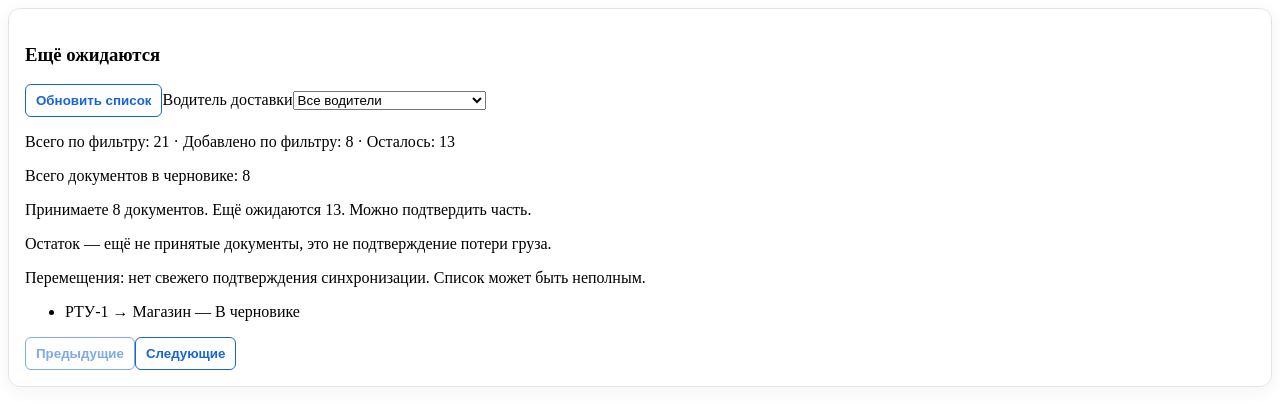
фильтрует приёмку по водителю доставки и не называет остаток потерей
The image size is (1280, 404).
Select "Бывший водитель доставки" in the dropdown at (389, 101), box [293,91,486,110]
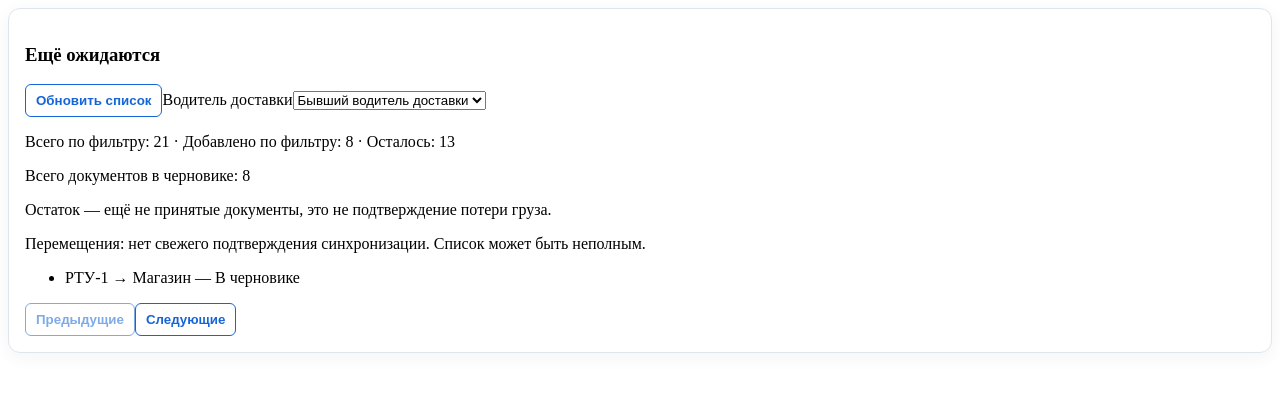
Expected: the text "это не подтверждение потери" is shown, [25,201,552,218]
Result: the text "Принимаете 8" is gone
